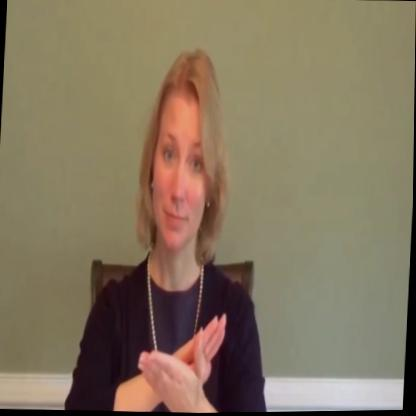NiceToMeetYou: (68, 42, 289, 415)
